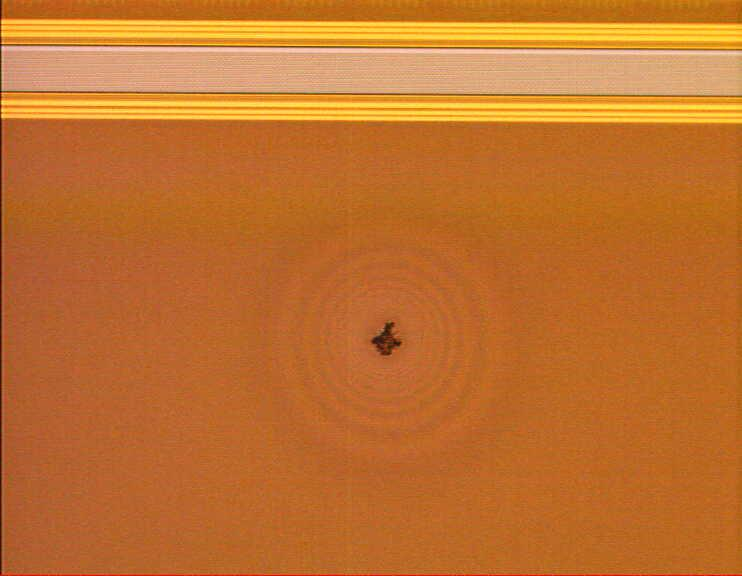PIQ PARTICLE: (365, 317, 409, 361)
